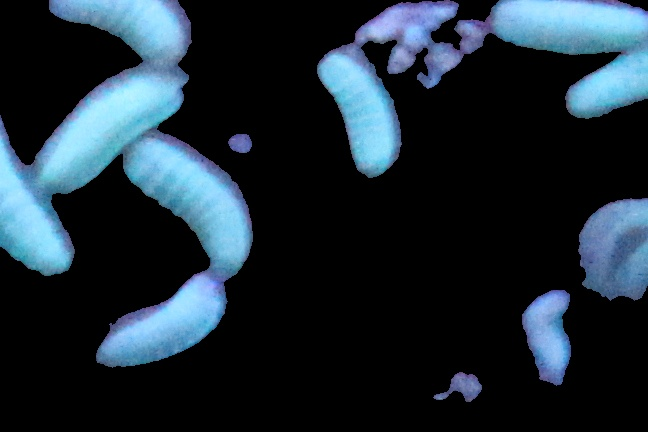larvae: (125, 138, 249, 272), (39, 80, 181, 189), (316, 46, 401, 177), (1, 116, 70, 275), (100, 275, 223, 360), (489, 3, 648, 54), (50, 1, 181, 62), (560, 56, 648, 122)
